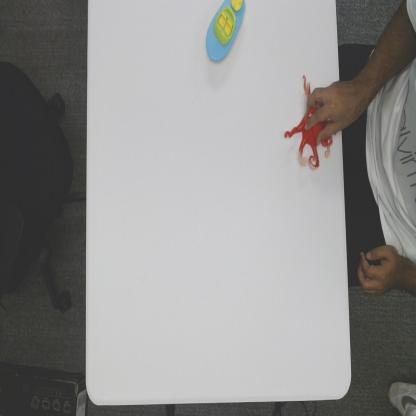Arm: (348, 9, 414, 124)
Boat: (208, 0, 244, 63)
Hand: (307, 82, 344, 133)
Octopus: (292, 80, 334, 162)
